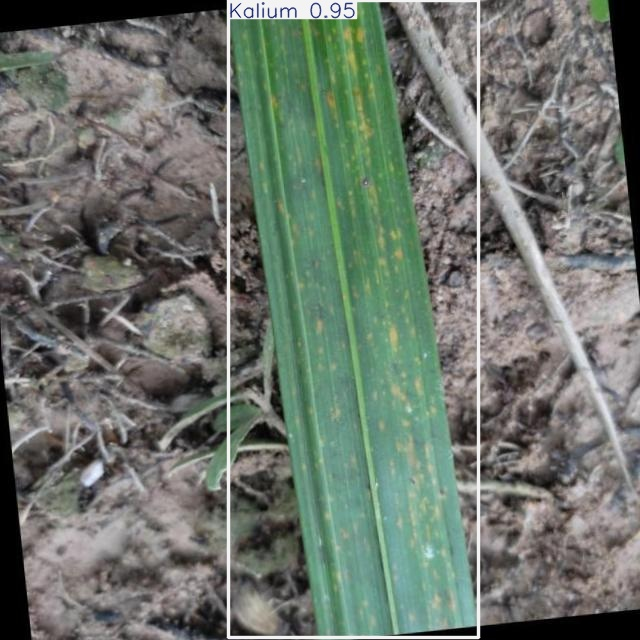Kalium: (228, 1, 479, 638)
